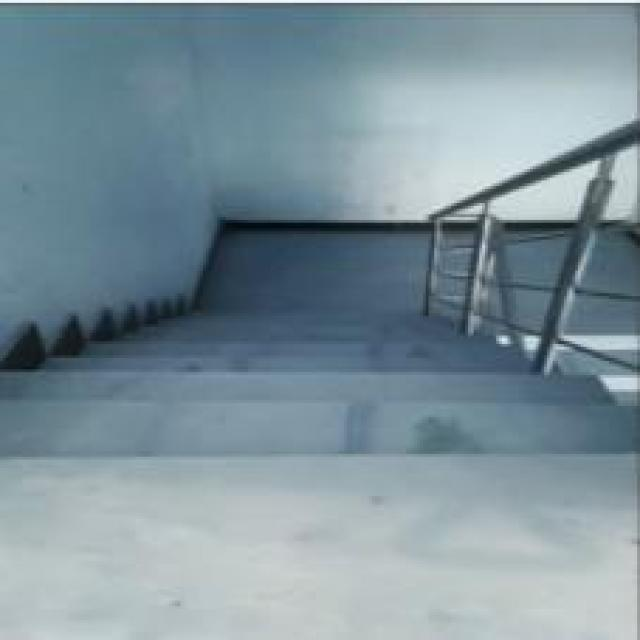downstair: (55, 309, 447, 560)
